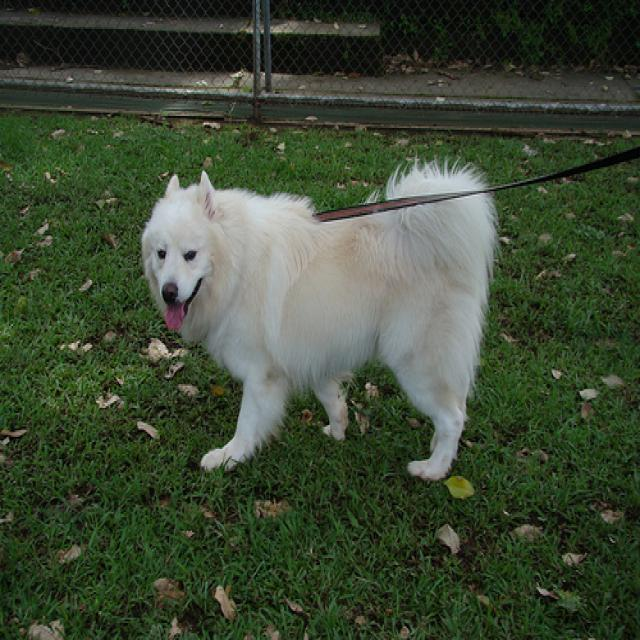dog-samoyed: (138, 155, 507, 490)
